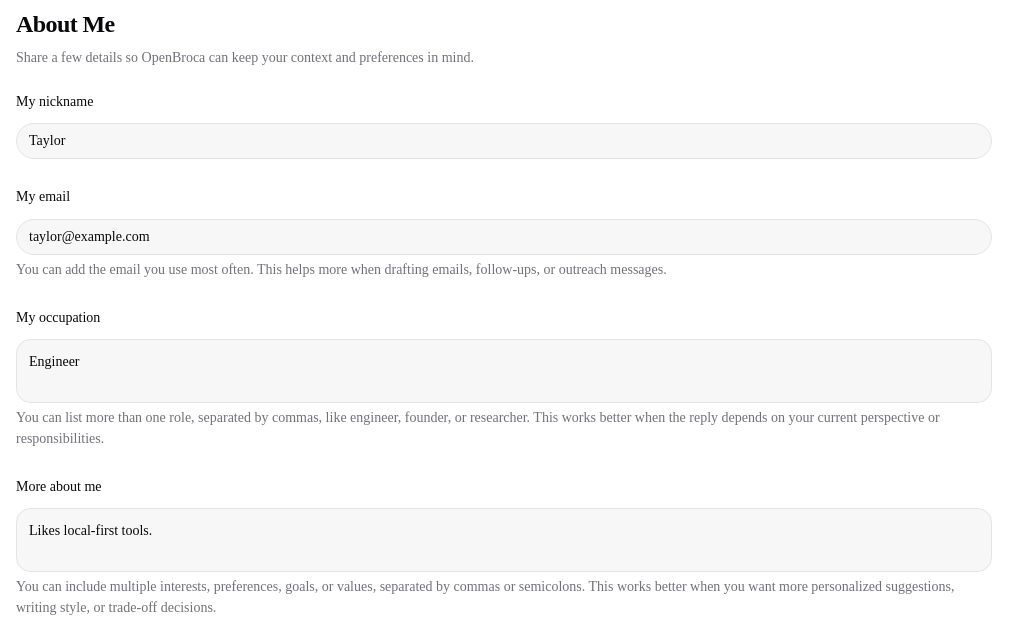
Test: AboutMe › shows save changes only after edits and hides it again after saving
The image size is (1009, 632).
Type "Taylor Swift" into the field labelled "My nickname".
click(504, 141); type("Taylor Swift")  # box [16, 123, 992, 159]
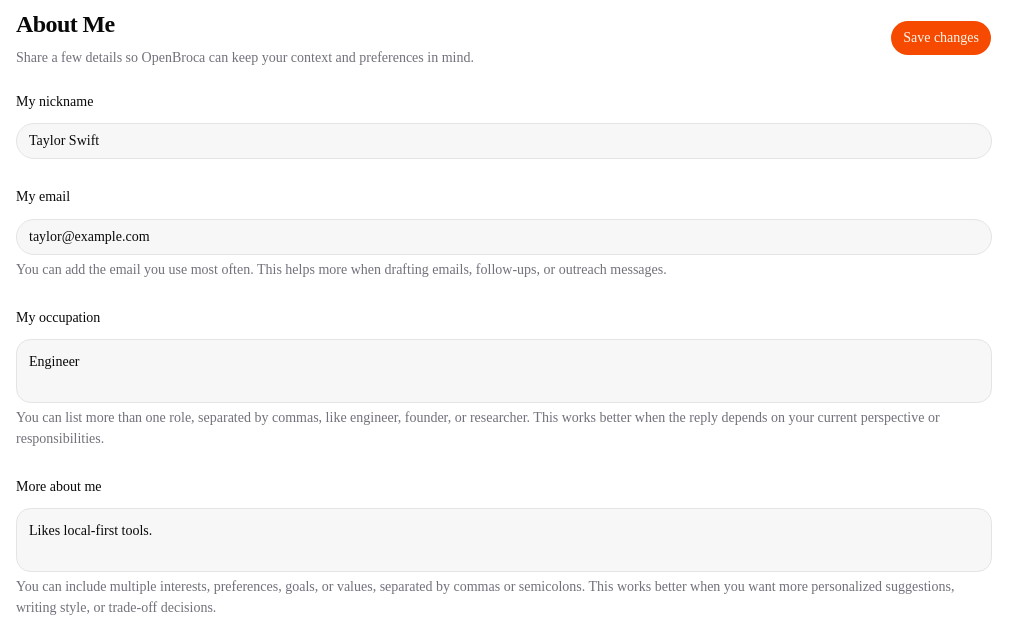
Check: the button "Save changes" is shown
Click the button "Save changes".
click(941, 38)  # box [890, 20, 992, 56]
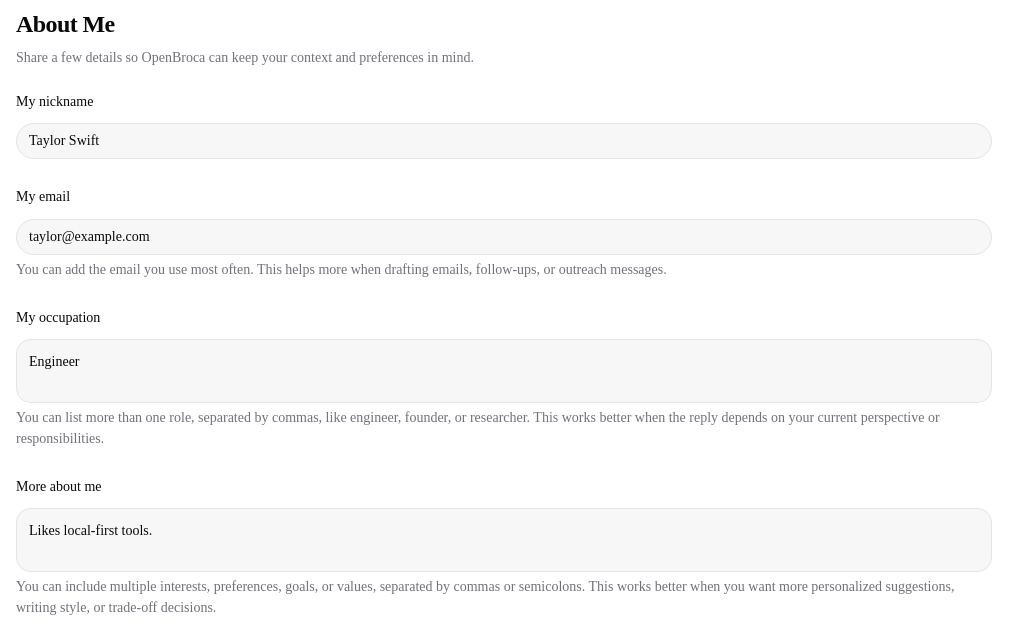
Check: the button "Save changes" is gone
